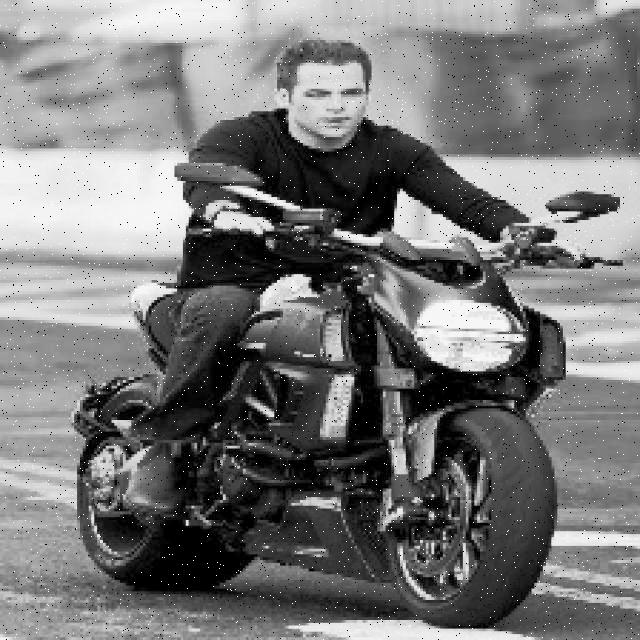Bike: (104, 230, 566, 626)
